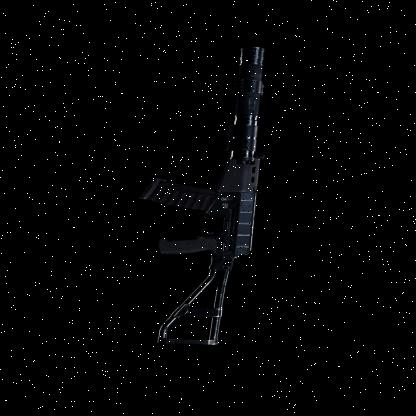rifle: (121, 37, 284, 354)
